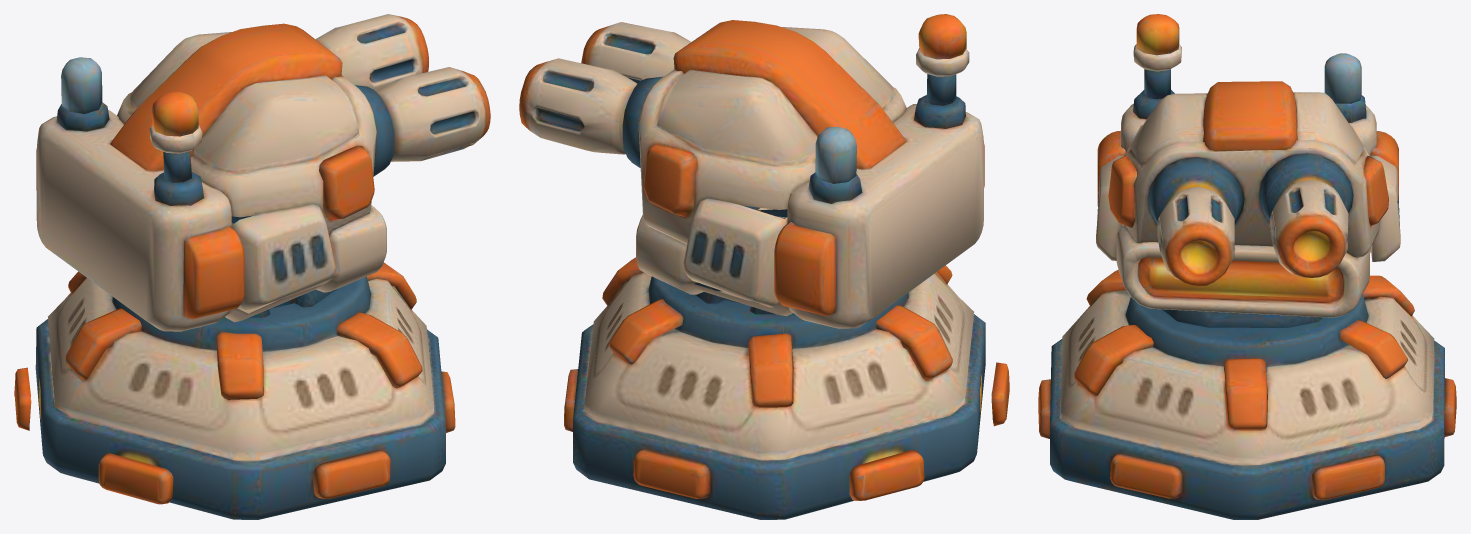
File: steel_turret.glb
The picture shows the model from 3 angles, left to right: view 1: azimuth 30°, elevation 25°; view 2: azimuth 150°, elevation 25°; view 3: azimuth 270°, elevation 25°; orthographic projection. The views are drawn at different scales.
Visible parts, largest first — view 1: tripo_node_c2ec938d-1840-4ef7-bdd7-654618bf86ee; view 2: tripo_node_c2ec938d-1840-4ef7-bdd7-654618bf86ee; view 3: tripo_node_c2ec938d-1840-4ef7-bdd7-654618bf86ee.
Boxes of the visible parts, box(x1,y1,x2,y2) form: tripo_node_c2ec938d-1840-4ef7-bdd7-654618bf86ee: box(14, 14, 490, 519); tripo_node_c2ec938d-1840-4ef7-bdd7-654618bf86ee: box(519, 14, 1009, 519); tripo_node_c2ec938d-1840-4ef7-bdd7-654618bf86ee: box(1038, 14, 1456, 519).
Bounding box in the file's own units: 0.998 × 0.959 × 0.9785.
1 material, 1 textured.
